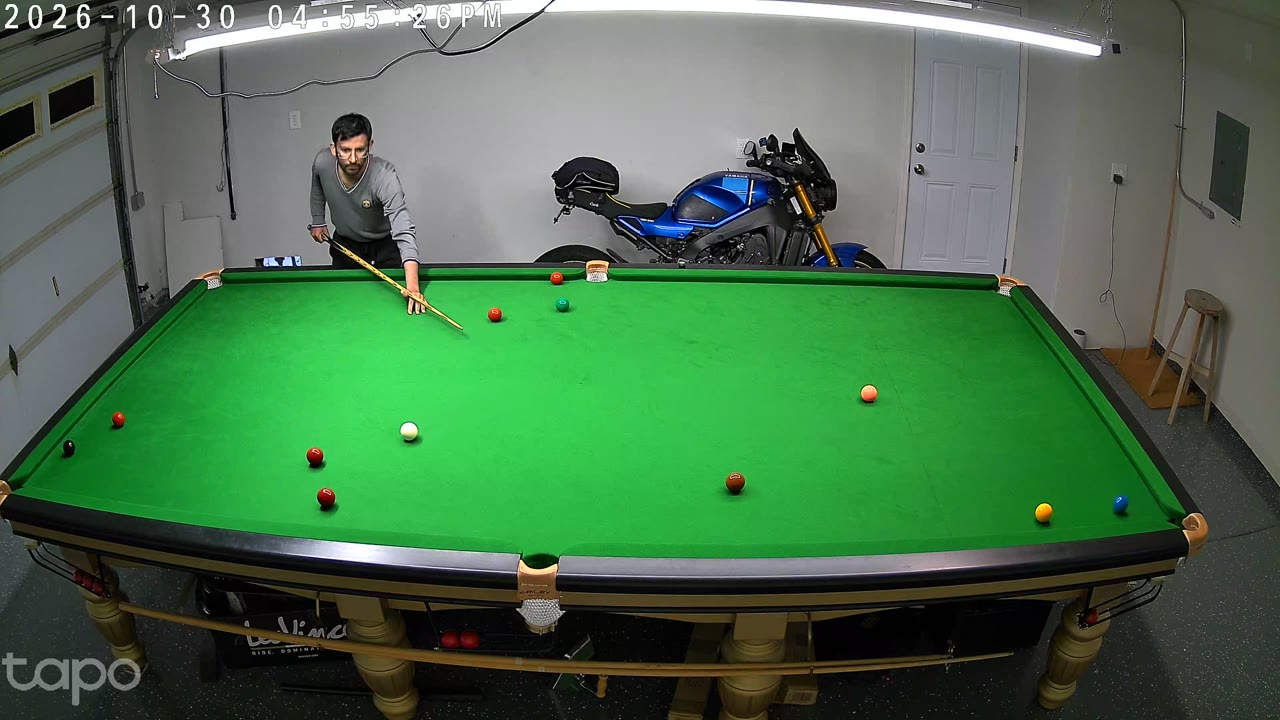black: (62, 438, 76, 459)
blue: (1113, 493, 1128, 516)
brown: (726, 471, 744, 497)
green: (556, 297, 569, 314)
pink: (860, 384, 876, 404)
red: (317, 486, 335, 512), (307, 445, 323, 469), (112, 410, 125, 430), (488, 306, 501, 325), (551, 271, 562, 288)
white: (401, 421, 417, 443)
yellow: (1035, 500, 1053, 526)
